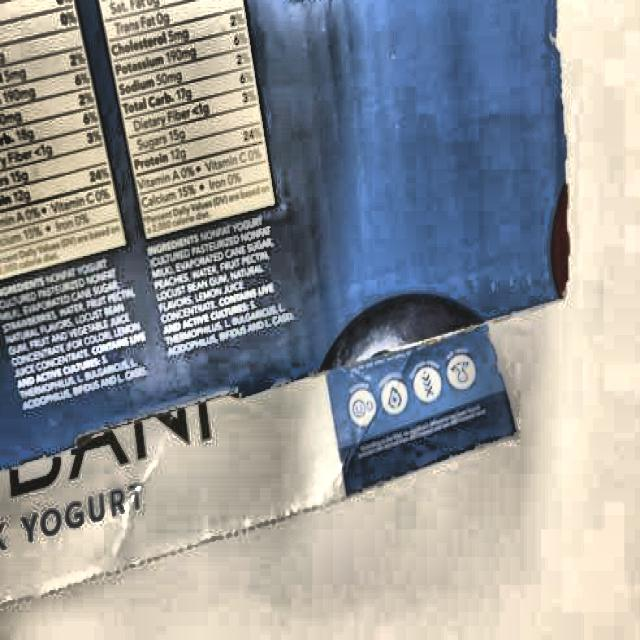cardboard: (0, 0, 571, 485)
